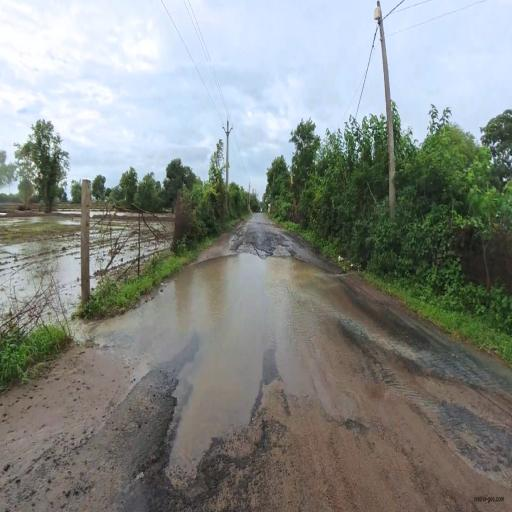ravelling: (142, 367, 291, 512)
